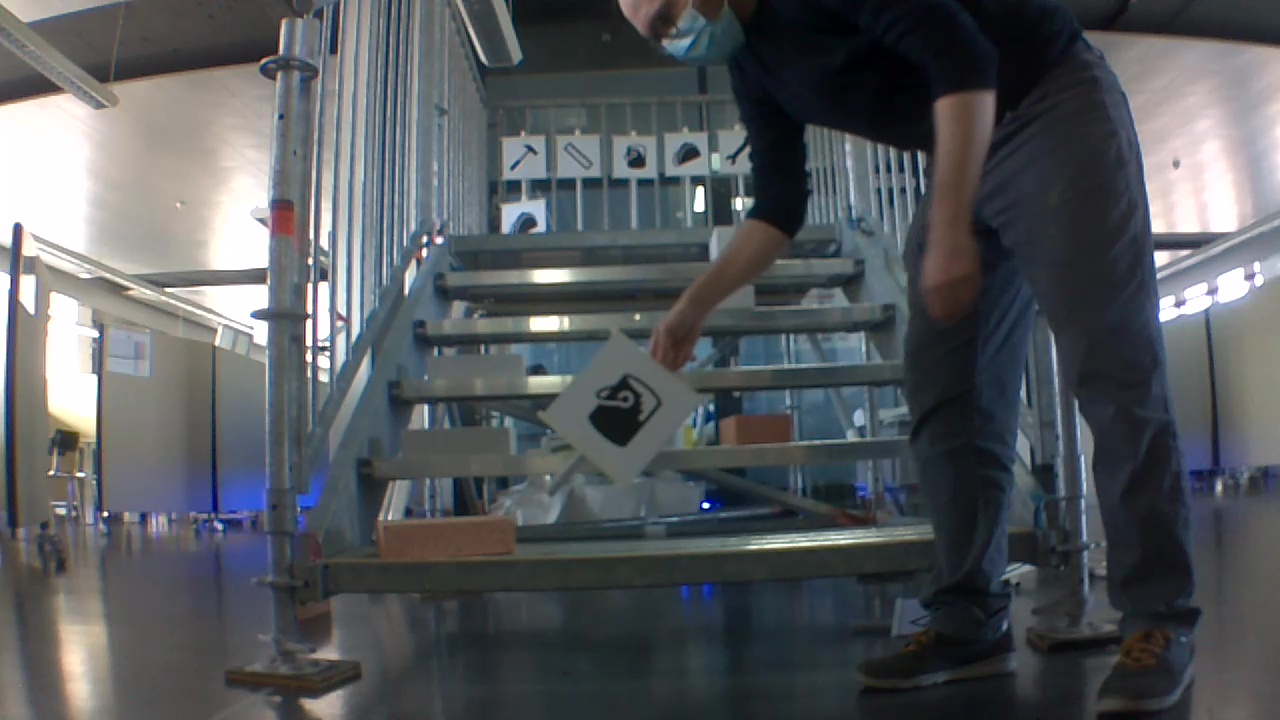brick: (376, 513, 514, 561), (400, 426, 517, 458), (426, 353, 526, 381), (721, 415, 791, 444)
bucket: (582, 367, 667, 450), (620, 142, 649, 171)
edge: (323, 531, 1035, 591)
hammer: (505, 141, 541, 176)
ruler: (557, 140, 597, 174)
taco: (666, 135, 702, 171), (505, 208, 541, 235)
